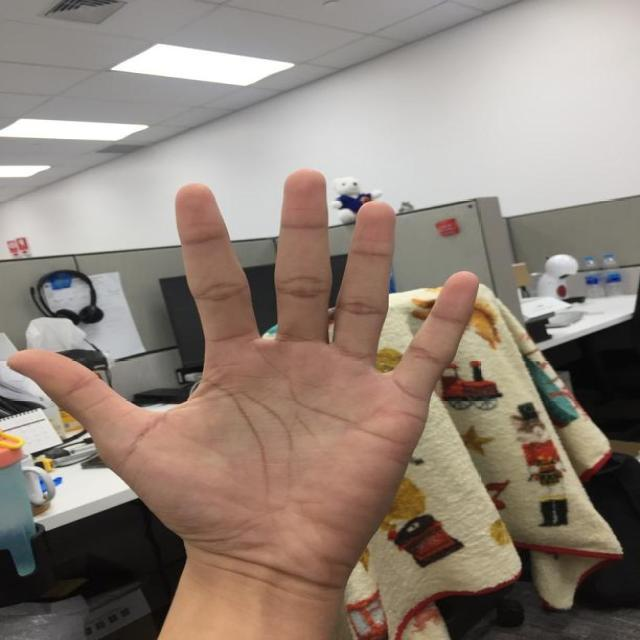hand: (4, 170, 478, 631)
